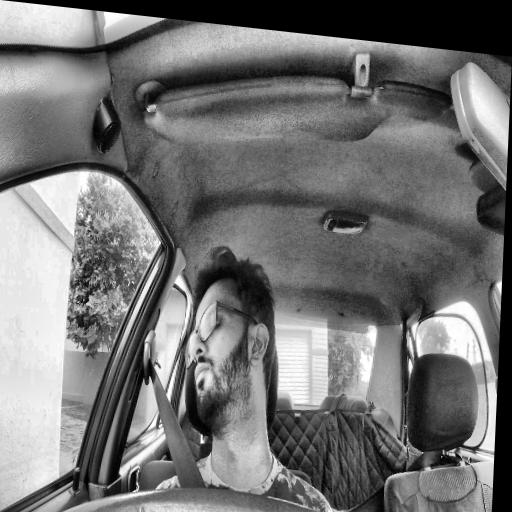drowsy: (179, 242, 279, 447)
